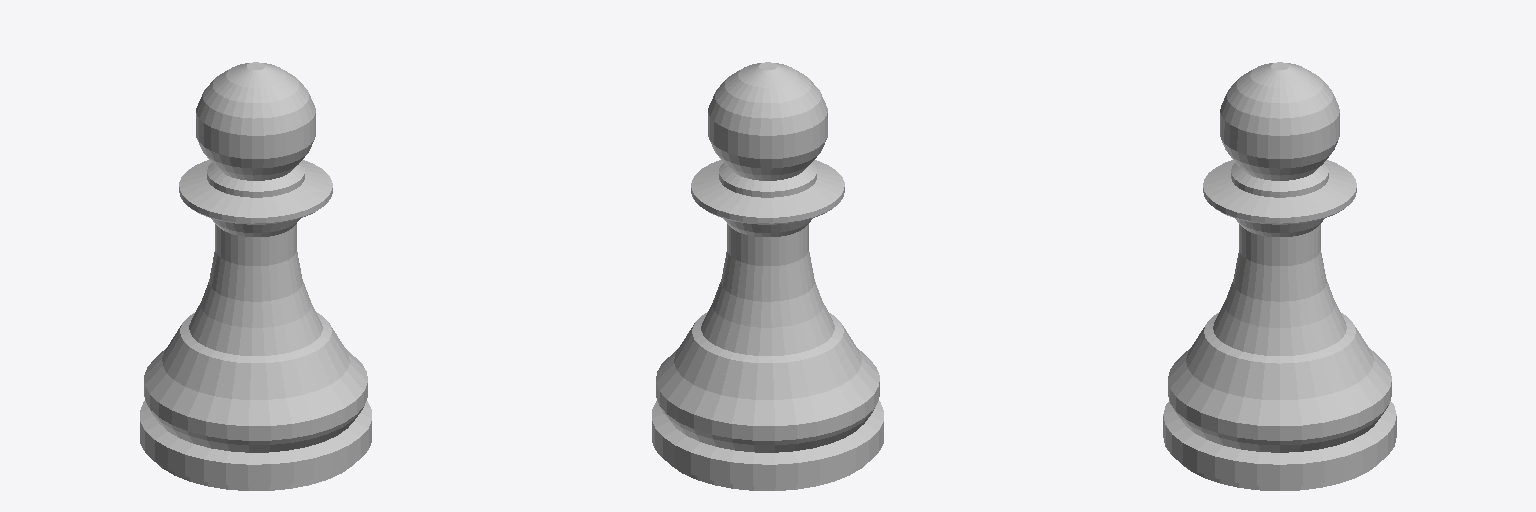
File: pawn_white.obj
3 renders of one model, left to right at view 1: azimuth 30°, elevation 25°; view 2: azimuth 150°, elevation 25°; view 3: azimuth 270°, elevation 25°, orthographic.
Parts seen in each view (by area): view 1: Pawn_white_Circle.001; view 2: Pawn_white_Circle.001; view 3: Pawn_white_Circle.001.
Boxes of the visible parts, box(x1,y1,x2,y2) form: Pawn_white_Circle.001: box(140, 62, 371, 490); Pawn_white_Circle.001: box(652, 62, 883, 490); Pawn_white_Circle.001: box(1163, 62, 1396, 490).
Size of the model in its own units: 0.9831 by 1.76 by 0.9831.